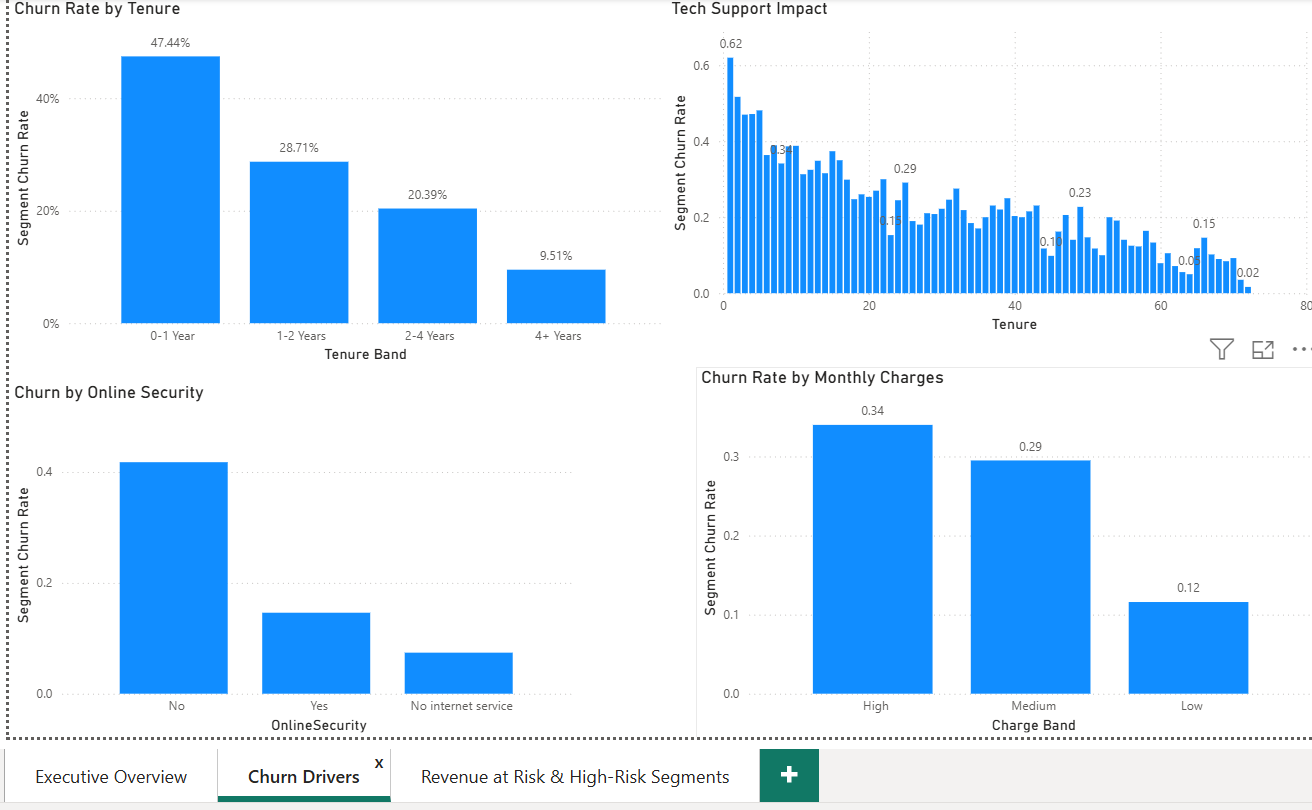

What the dashboard file says about the page in this screenshot:
{"tool":"powerbi","page":{"name":"Churn Drivers","canvas":[1280,720],"ordinal":1},"visuals":[{"type":"clusteredColumnChart","title":"Churn Rate by Tenure","fields":{"Category":["telco_clean.Tenure Band"],"Y":["telco_clean.Segment Churn Rate"]},"box":[0,0,640.1,359.5],"z":0},{"type":"clusteredColumnChart","title":"Churn Rate by Monthly Charges","fields":{"Category":["telco_clean.Charge Band"],"Y":["telco_clean.Segment Churn Rate"]},"box":[669.4,359.5,610.9,361],"z":1000},{"type":"clusteredColumnChart","title":"Tech Support Impact","fields":{"Category":["telco_clean.Tenure"],"Y":["telco_clean.Segment Churn Rate"]},"box":[640.1,0,635.7,330.3],"z":2000},{"type":"clusteredColumnChart","title":"Churn by Online Security","fields":{"Category":["telco_clean.OnlineSecurity"],"Y":["telco_clean.Segment Churn Rate"]},"box":[0,374.1,556.8,346.4],"z":3000}]}

Visuals, with their boxes on the page's 1280x720 design canvas (x1, y1, x2, y2). These are canvas units, not pixel positions in the 1312x810 screenshot, which may show the page scaled, cropped or inside an application window:
"Churn Rate by Tenure" clusteredColumnChart: detection(0, 0, 640, 360)
"Churn Rate by Monthly Charges" clusteredColumnChart: detection(669, 360, 1280, 720)
"Tech Support Impact" clusteredColumnChart: detection(640, 0, 1276, 330)
"Churn by Online Security" clusteredColumnChart: detection(0, 374, 557, 720)
